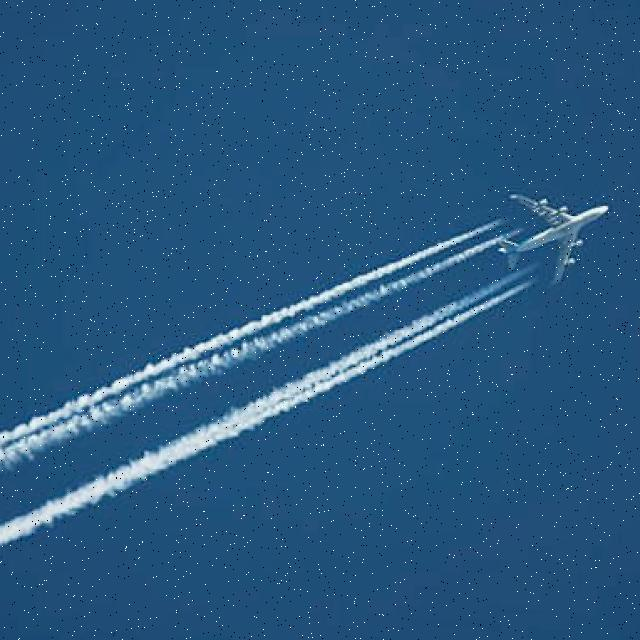Ct: (1, 172, 611, 562)
